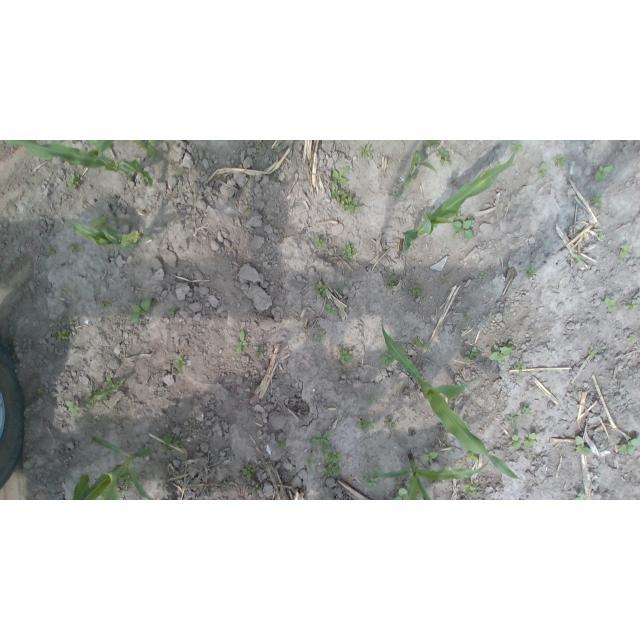Maize: (382, 321, 520, 479), (399, 146, 517, 257), (7, 141, 153, 188), (373, 453, 491, 500), (72, 437, 157, 500), (69, 221, 156, 250), (401, 150, 438, 191)
Weeds: (82, 374, 126, 406), (331, 186, 361, 215), (322, 450, 342, 478), (489, 341, 514, 363), (452, 215, 474, 240), (131, 300, 152, 322), (311, 430, 331, 453), (134, 141, 156, 159), (618, 437, 640, 455), (333, 166, 350, 188), (234, 330, 248, 354), (504, 410, 520, 430), (575, 436, 591, 456), (117, 476, 132, 497), (595, 164, 614, 180), (163, 433, 179, 451), (462, 483, 481, 498), (342, 241, 357, 260), (339, 346, 354, 364), (424, 448, 439, 465), (364, 473, 381, 488), (67, 173, 84, 188), (602, 295, 617, 312), (242, 463, 256, 481), (355, 418, 374, 431), (383, 416, 398, 432), (66, 400, 80, 417), (92, 217, 109, 231), (412, 285, 425, 303), (465, 347, 480, 362), (524, 433, 537, 450), (438, 148, 451, 165), (509, 433, 522, 450), (512, 359, 526, 374), (415, 338, 431, 351), (393, 487, 408, 500), (591, 194, 604, 209), (619, 243, 631, 259), (381, 353, 393, 368), (387, 272, 398, 288), (555, 154, 568, 167), (509, 140, 523, 152), (55, 330, 70, 341), (305, 455, 316, 470), (359, 145, 371, 158), (316, 284, 328, 297), (174, 358, 187, 370), (626, 300, 639, 312), (539, 162, 548, 179), (326, 304, 338, 316), (573, 492, 588, 501), (526, 267, 538, 278), (466, 453, 478, 464), (423, 141, 439, 148), (334, 283, 345, 293), (47, 245, 56, 257), (316, 237, 326, 247), (278, 438, 287, 448), (68, 243, 78, 252), (572, 255, 582, 264), (101, 300, 111, 309), (589, 346, 596, 358), (521, 406, 531, 414), (463, 310, 471, 320), (255, 347, 263, 356), (168, 307, 177, 315), (38, 386, 47, 394), (253, 485, 260, 495), (317, 331, 324, 341), (440, 276, 448, 284), (627, 336, 635, 344), (393, 191, 402, 198), (456, 208, 462, 218), (529, 452, 536, 460), (368, 397, 375, 404), (480, 273, 487, 280), (315, 324, 322, 331), (265, 461, 271, 469), (599, 233, 605, 240), (572, 387, 578, 394), (176, 471, 182, 477), (246, 206, 251, 211), (325, 254, 329, 259)
